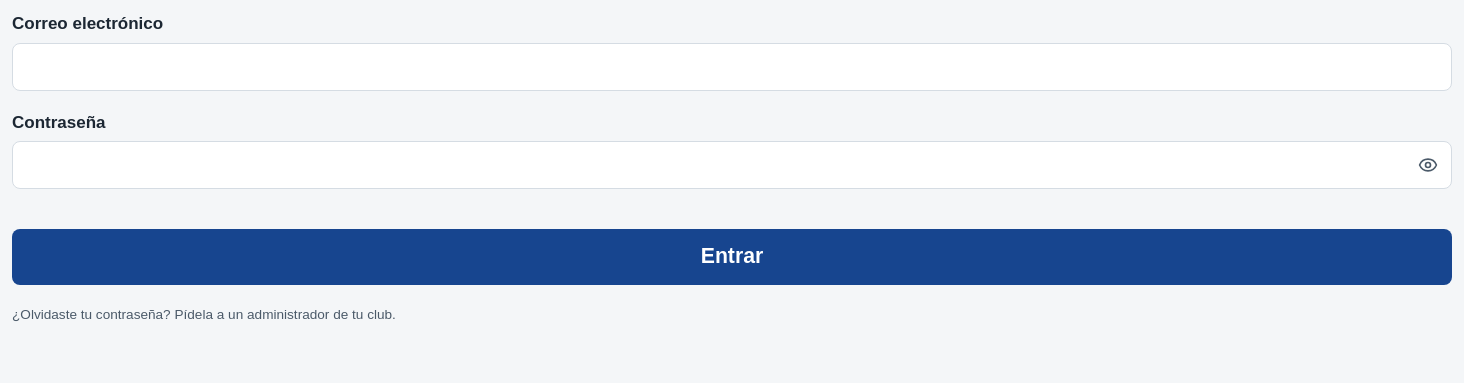
Scenario: LoginForm › muestra un error claro con credenciales incorrectas
Type "ana@example.org" into the field labelled "Correo electrónico" at [732, 67], box [12, 43, 1452, 91]
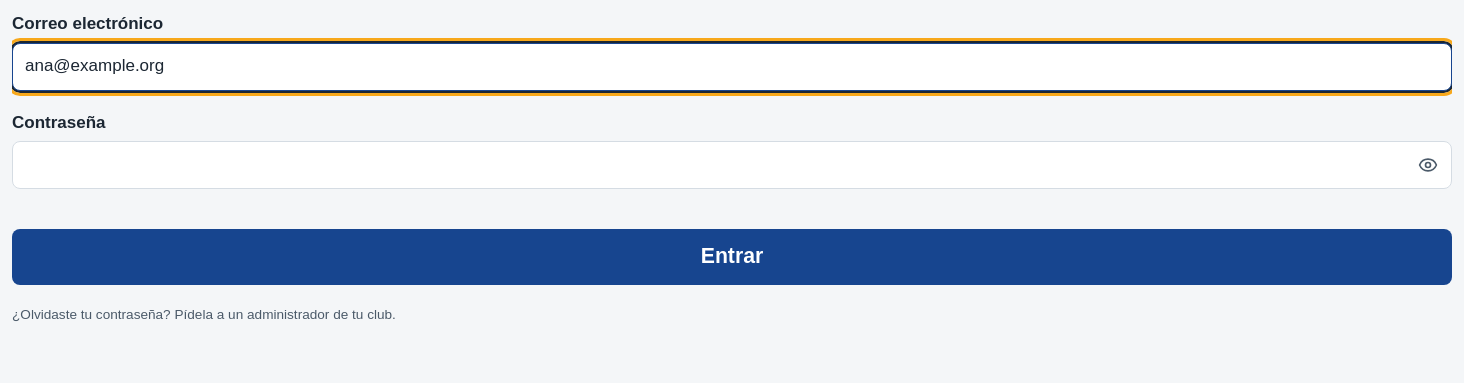
Type "mala" into the password field labelled "Contraseña" at [732, 165], box [12, 141, 1452, 189]
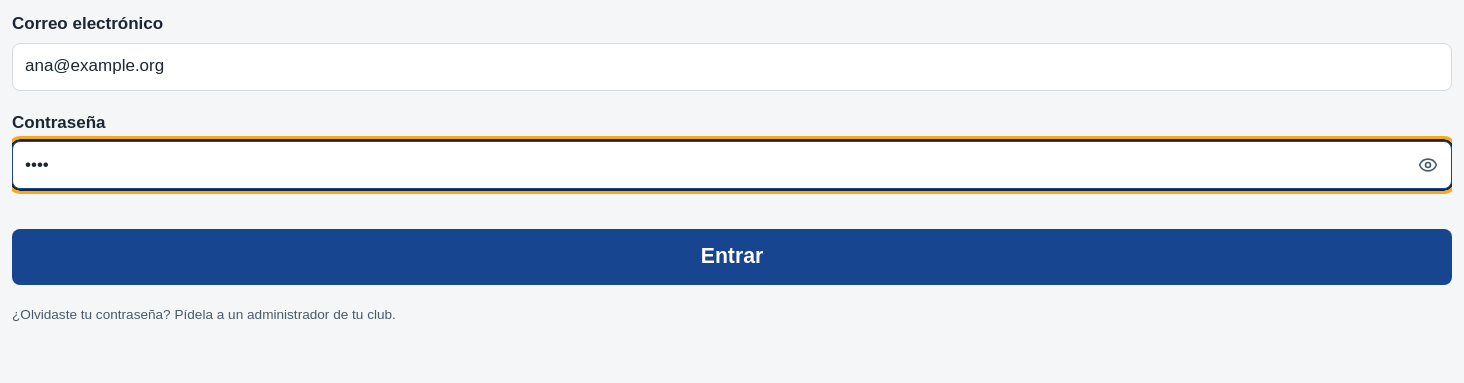
Click the button "Entrar" at [732, 257], box [12, 229, 1452, 285]
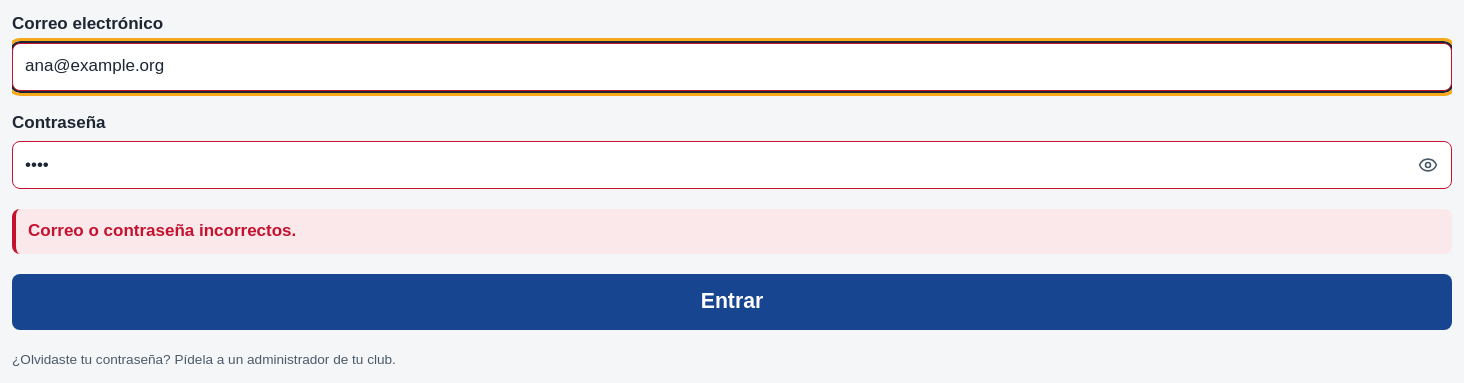
Now the text "Correo o contraseña incorrectos." is shown, box [12, 209, 1452, 254]
